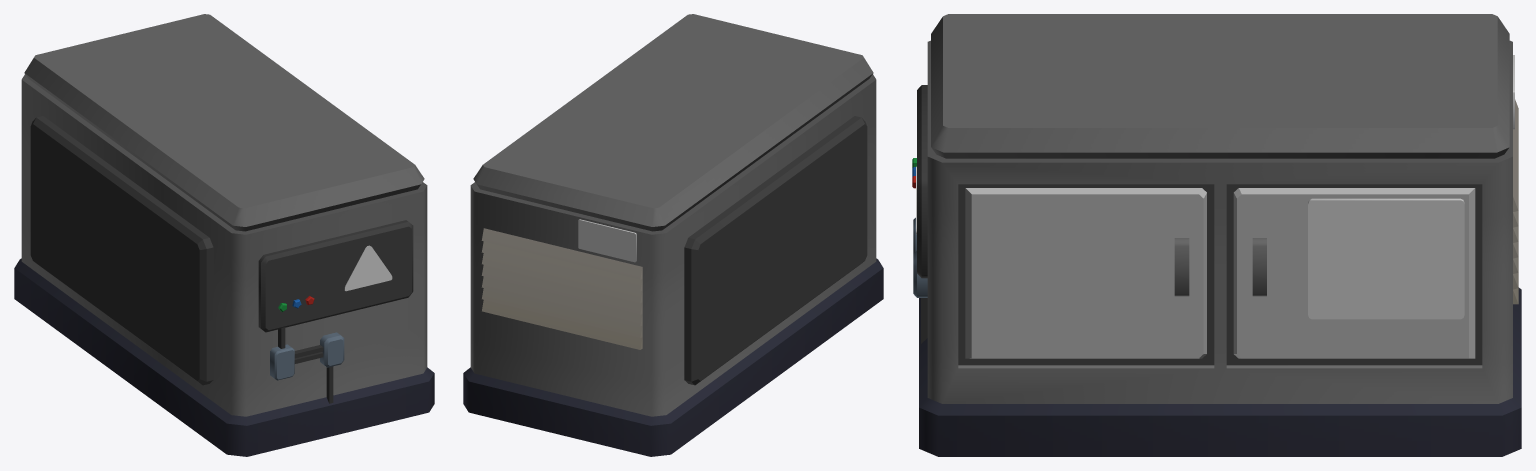
Rendered from Generator_1_B.fbx.
The picture shows the model from 3 angles, left to right: view 1: azimuth 30°, elevation 25°; view 2: azimuth 150°, elevation 25°; view 3: azimuth 270°, elevation 25°; orthographic projection. The views are drawn at different scales.
Parts seen in each view (by area): view 1: Generator_1_B; view 2: Generator_1_B; view 3: Generator_1_B.
Boxes of the visible parts, box(x1,y1,x2,y2) form: Generator_1_B: box(14, 14, 434, 456); Generator_1_B: box(463, 14, 883, 456); Generator_1_B: box(912, 14, 1521, 456).
Bounding box in the file's own units: 162 × 174 × 301.
